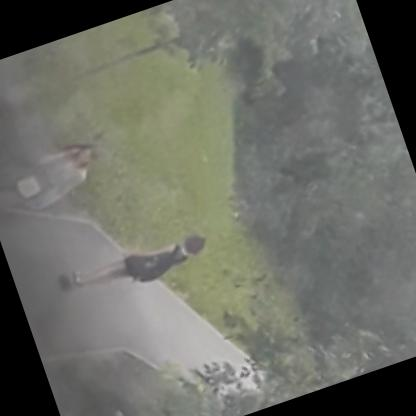Human Body: (60, 215, 218, 314), (0, 120, 118, 234)
